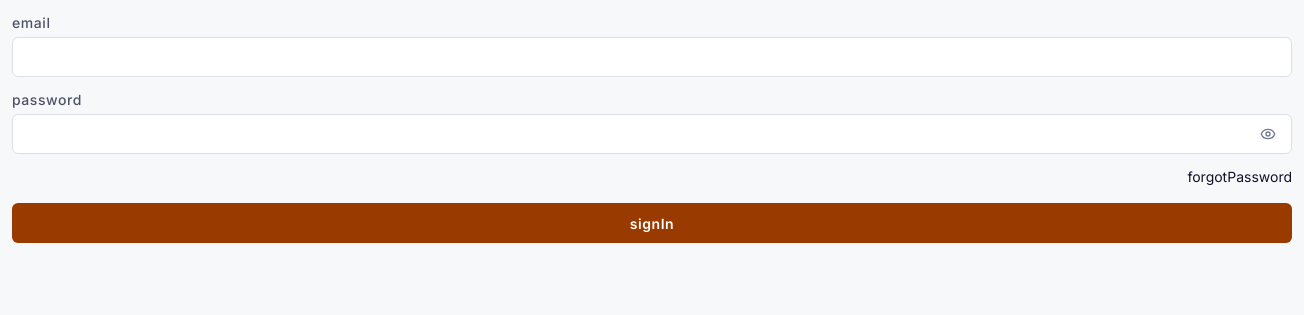
Test case: LoginForm › shows invalidCredentials when server action returns that error
Type "admin@cpbuild.com" into the field labelled "email" at [652, 57], box [12,37,1292,77]
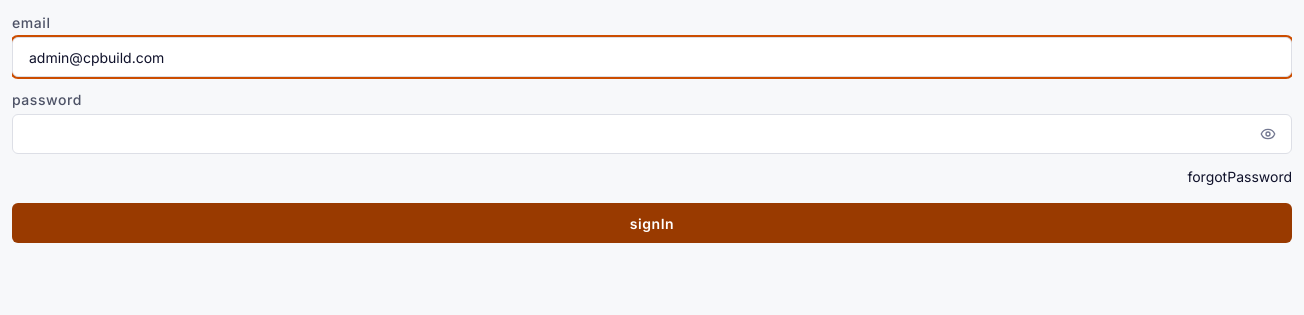
Type "WrongPass1!" into the password field labelled "password" at [652, 134], box [12,114,1292,154]
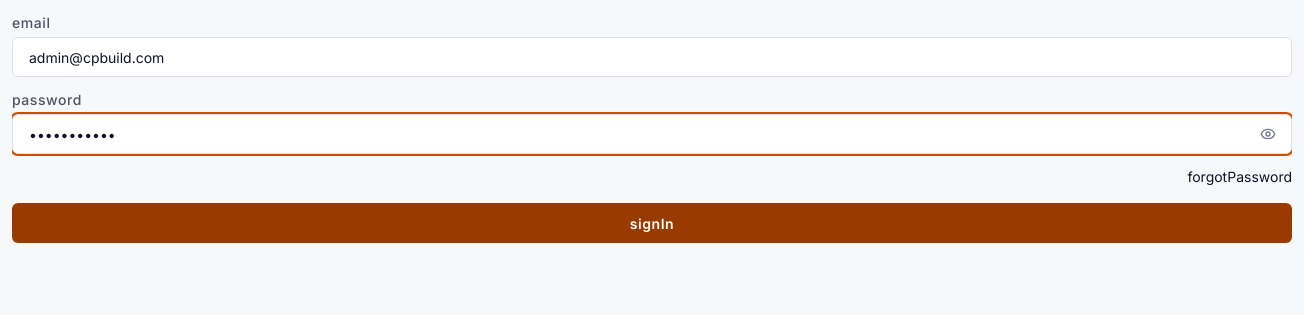
Click the button "signIn" at [652, 223], box [12,203,1292,243]
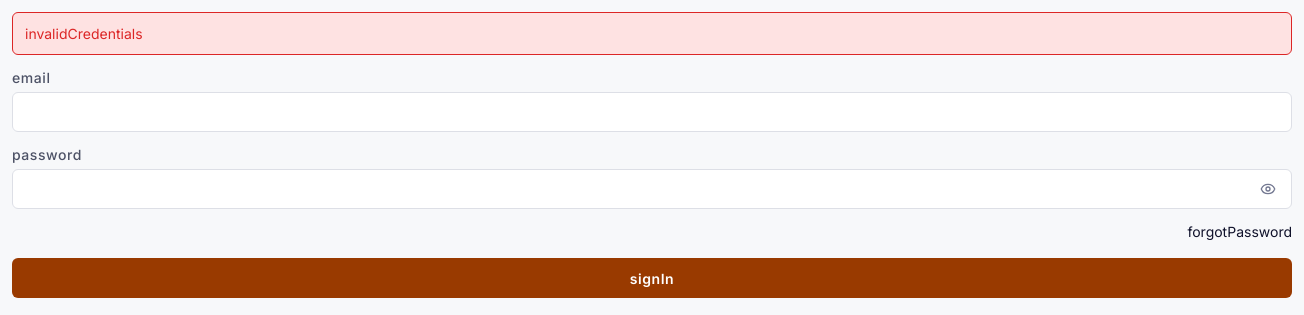
Expected: the message reads "invalidCredentials", [25,25,142,42]
